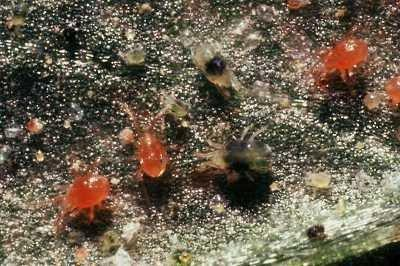Mites: (52, 161, 115, 229), (119, 104, 170, 183), (312, 32, 378, 90)
